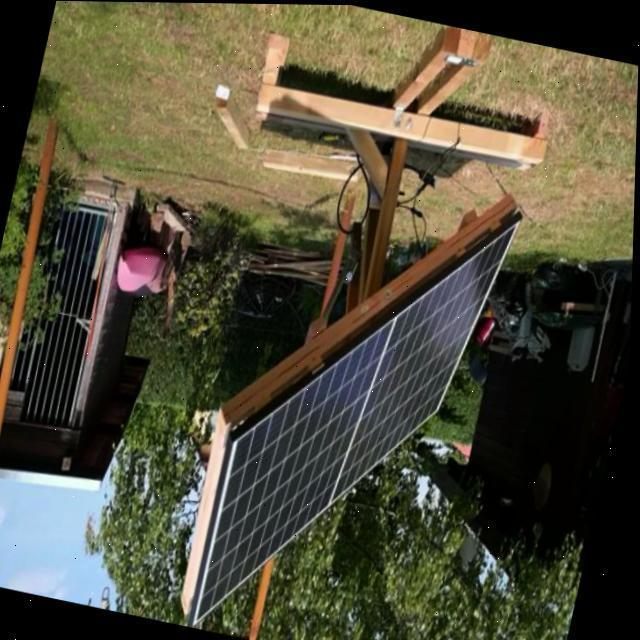Normal Solar Panel: (189, 170, 522, 640)
